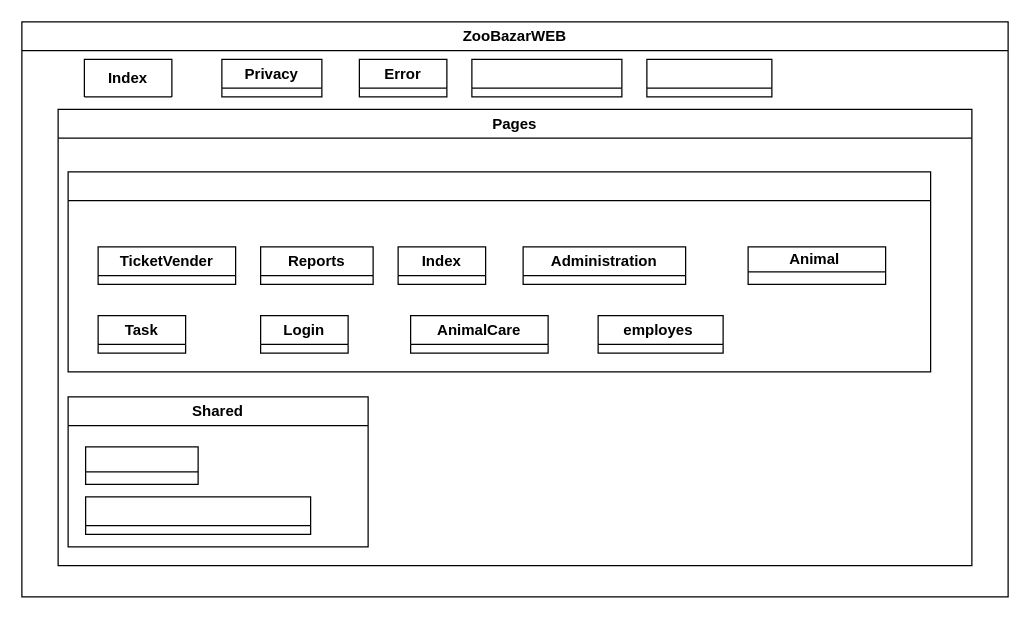
Image size: 1030x619. Some labels were removed from this diagram. The shapes that lost their labels are listed below. From the top down, each one's box as (x1, y1, x2, y2) in pixels, then its label:
(471, 58, 622, 97): _viewimports
(646, 58, 772, 97): _viewStart
(67, 171, 931, 372): sub-page
(84, 446, 198, 484): _Layout
(84, 496, 311, 534): _ValidationScriptsPartial
